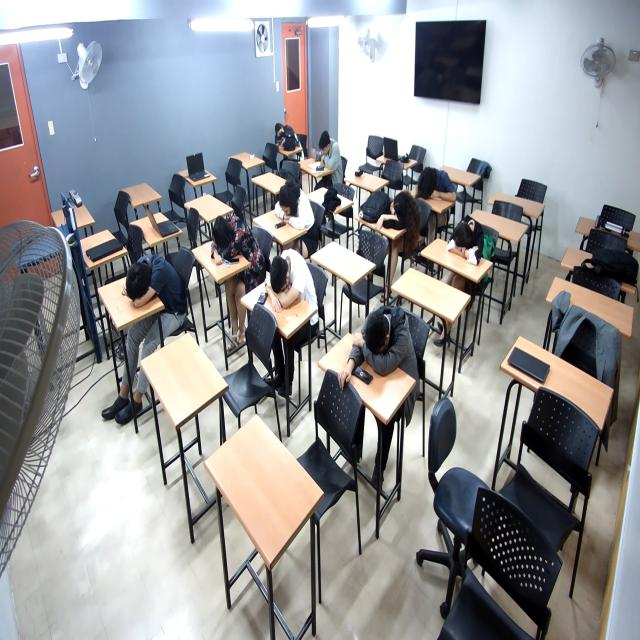sleep: (355, 306, 420, 382), (261, 248, 314, 317), (121, 252, 181, 310), (207, 212, 261, 272), (444, 212, 489, 269), (273, 184, 314, 235), (377, 196, 425, 239), (418, 165, 462, 203), (274, 121, 299, 152)
